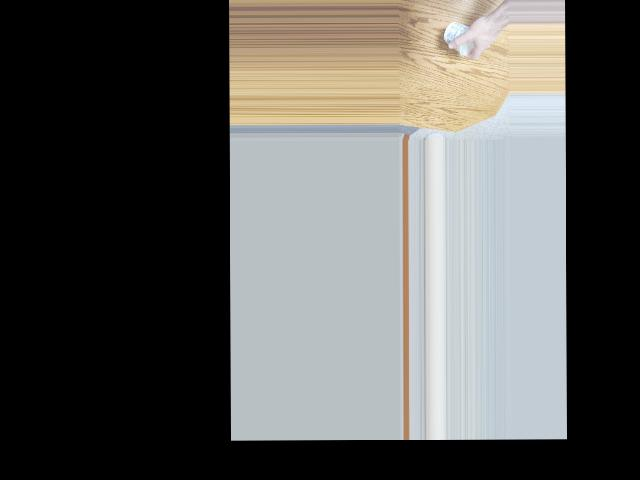cotage: (446, 21, 477, 55)
